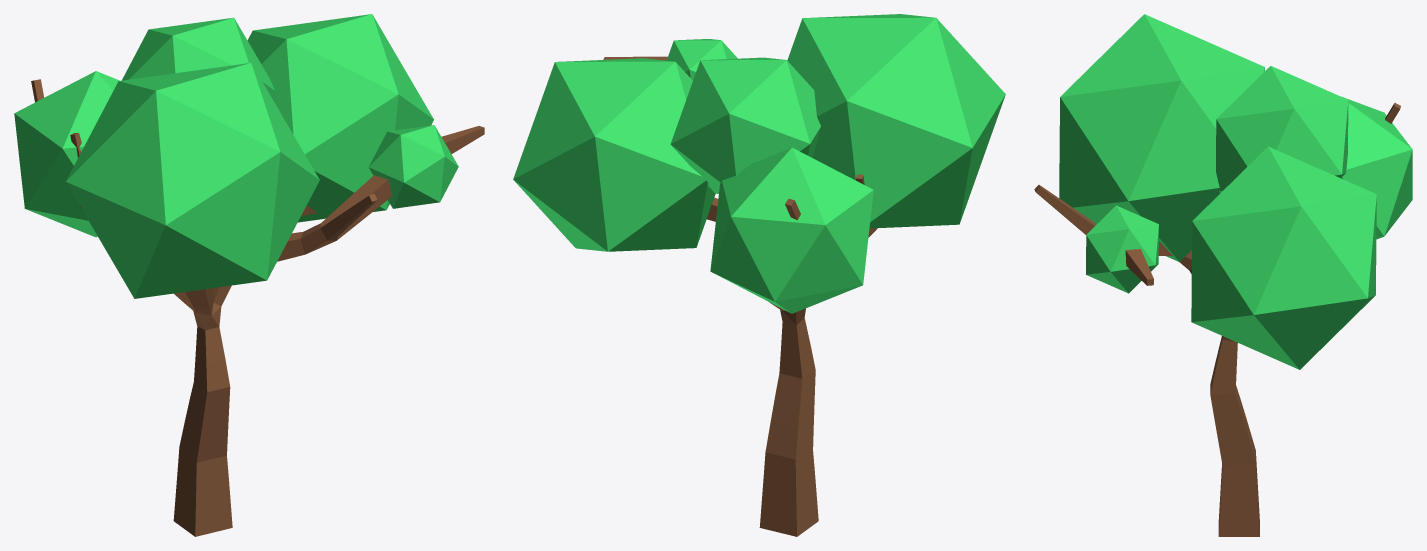
File: tree01.fbx
The picture shows the model from 3 angles, left to right: view 1: azimuth 30°, elevation 25°; view 2: azimuth 150°, elevation 25°; view 3: azimuth 270°, elevation 25°; orthographic projection. The views are drawn at different scales.
Parts seen in each view (by area): view 1: Icosphere.003, Cube; view 2: Icosphere.003, Cube; view 3: Icosphere.003, Cube.
Part boxes in pixels (x1,y1,x2,y2): Icosphere.003: (14,14,458,298); Cube: (31,79,484,536); Icosphere.003: (513,14,1005,313); Cube: (603,56,877,536); Icosphere.003: (1059,14,1412,369); Cube: (1034,103,1400,536).
Size of the model in its own units: 263 by 312 by 228.
